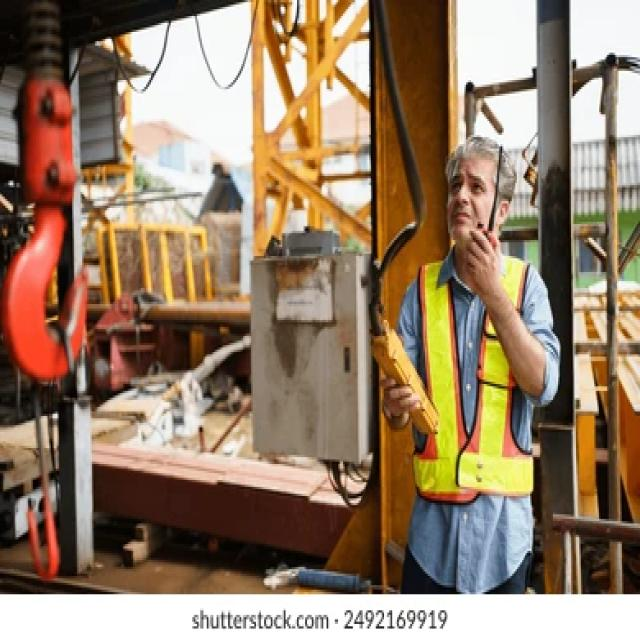no-helmet: (425, 125, 521, 188)
person: (381, 96, 554, 593)
vest: (409, 258, 537, 514)
